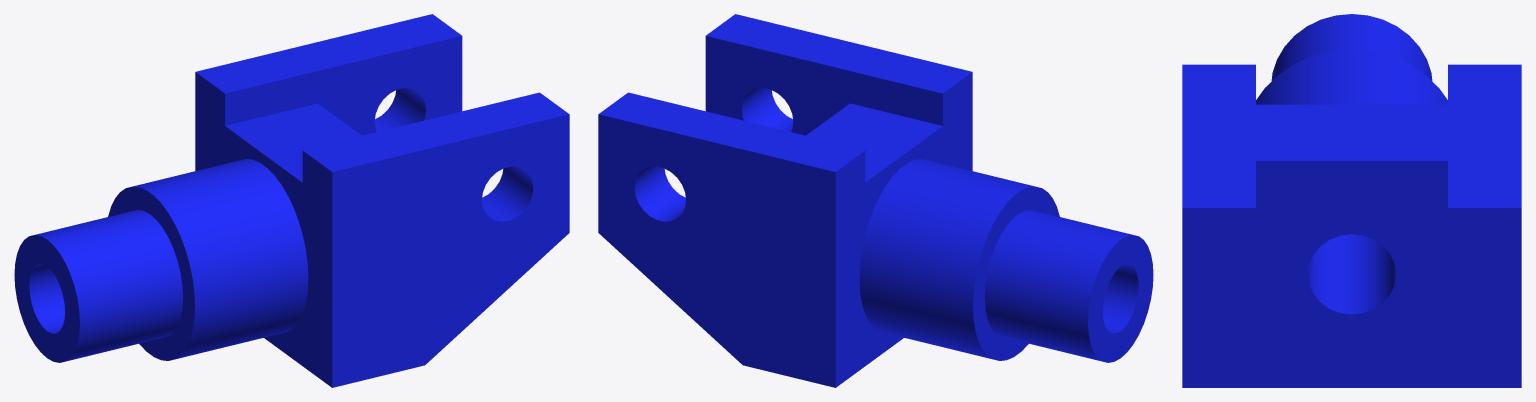
File: asset.glb
The picture shows the model from 3 angles, left to right: view 1: azimuth 30°, elevation 25°; view 2: azimuth 150°, elevation 25°; view 3: azimuth 270°, elevation 25°; orthographic projection. The views are drawn at different scales.
Parts seen in each view (by area): view 1: Solid1; view 2: Solid1; view 3: Solid1.
Part boxes in pixels (x1=…): Solid1: x1=14, y1=14, x2=569, y2=387; Solid1: x1=598, y1=14, x2=1153, y2=387; Solid1: x1=1182, y1=14, x2=1521, y2=387.
Size of the model in its own units: 0.132 by 0.06 by 0.069.
